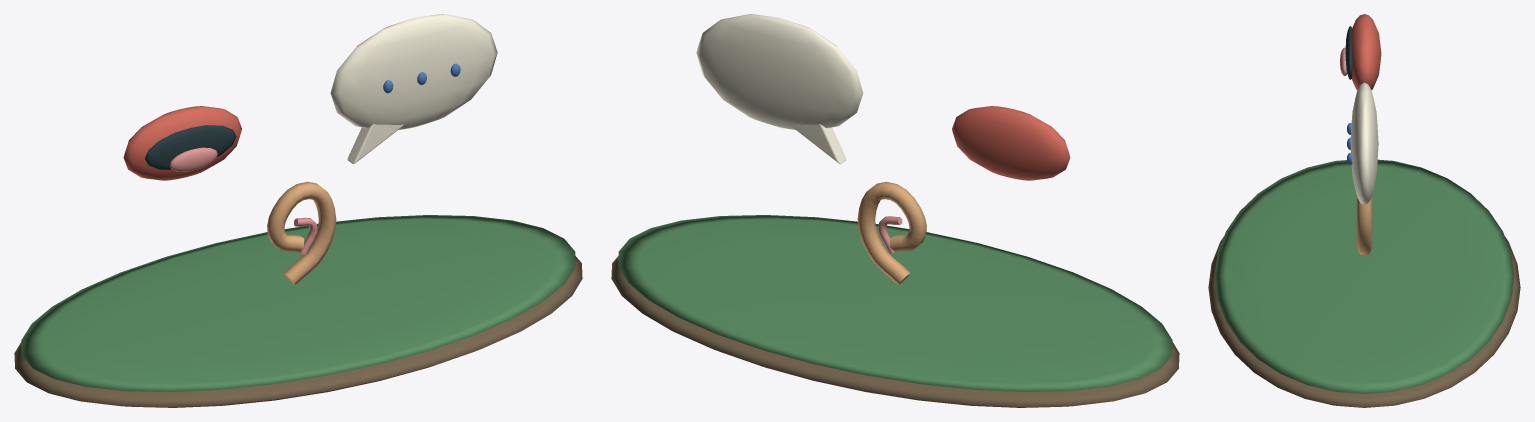
Rendered from complete-first-tell-the-complaint.glb.
3 renders of one model, left to right at view 1: azimuth 30°, elevation 25°; view 2: azimuth 150°, elevation 25°; view 3: azimuth 270°, elevation 25°, orthographic. The views are drawn at different scales.
Visible parts, largest first — view 1: complete-first-tell-the-complaint_surface_01, complete-first-tell-the-complaint_surface_05, complete-first-tell-the-complaint_surface_00, complete-first-tell-the-complaint_surface_02, complete-first-tell-the-complaint_surface_07, complete-first-tell-the-complaint_surface_03, complete-first-tell-the-complaint_surface_04; view 2: complete-first-tell-the-complaint_surface_01, complete-first-tell-the-complaint_surface_05, complete-first-tell-the-complaint_surface_00, complete-first-tell-the-complaint_surface_02, complete-first-tell-the-complaint_surface_07; view 3: complete-first-tell-the-complaint_surface_01, complete-first-tell-the-complaint_surface_00, complete-first-tell-the-complaint_surface_05, complete-first-tell-the-complaint_surface_02, complete-first-tell-the-complaint_surface_07, complete-first-tell-the-complaint_surface_03.
Boxes of the visible parts, x1,y1,x2,y2 form: complete-first-tell-the-complaint_surface_01: (21, 215, 575, 391); complete-first-tell-the-complaint_surface_05: (330, 14, 497, 164); complete-first-tell-the-complaint_surface_00: (14, 256, 582, 407); complete-first-tell-the-complaint_surface_02: (123, 106, 241, 180); complete-first-tell-the-complaint_surface_07: (267, 181, 336, 285); complete-first-tell-the-complaint_surface_03: (145, 125, 236, 169); complete-first-tell-the-complaint_surface_04: (169, 147, 317, 254); complete-first-tell-the-complaint_surface_01: (618, 215, 1172, 391); complete-first-tell-the-complaint_surface_05: (696, 14, 863, 164); complete-first-tell-the-complaint_surface_00: (611, 256, 1179, 407); complete-first-tell-the-complaint_surface_02: (952, 106, 1070, 180); complete-first-tell-the-complaint_surface_07: (857, 181, 926, 285); complete-first-tell-the-complaint_surface_01: (1214, 159, 1514, 393); complete-first-tell-the-complaint_surface_00: (1208, 237, 1520, 407); complete-first-tell-the-complaint_surface_05: (1350, 82, 1378, 204); complete-first-tell-the-complaint_surface_02: (1351, 14, 1381, 89); complete-first-tell-the-complaint_surface_07: (1356, 195, 1372, 254); complete-first-tell-the-complaint_surface_03: (1345, 26, 1352, 79).
Size of the model in its own units: 4.56 by 2.29 by 2.5.
